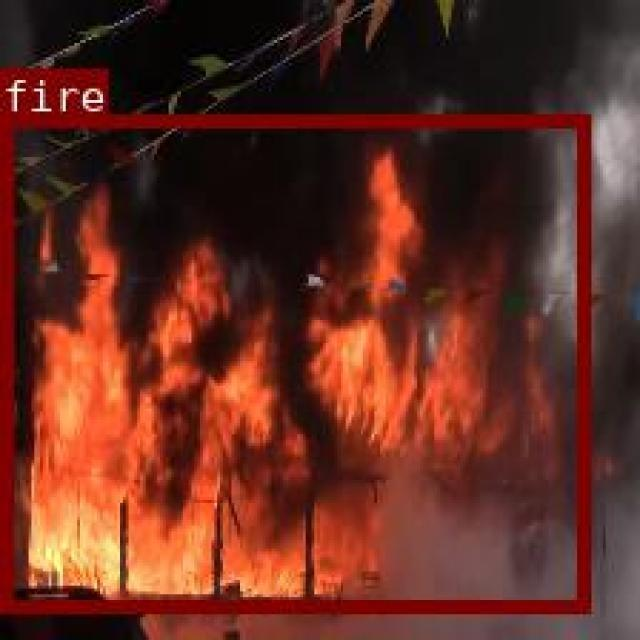fire: (0, 112, 589, 612)
